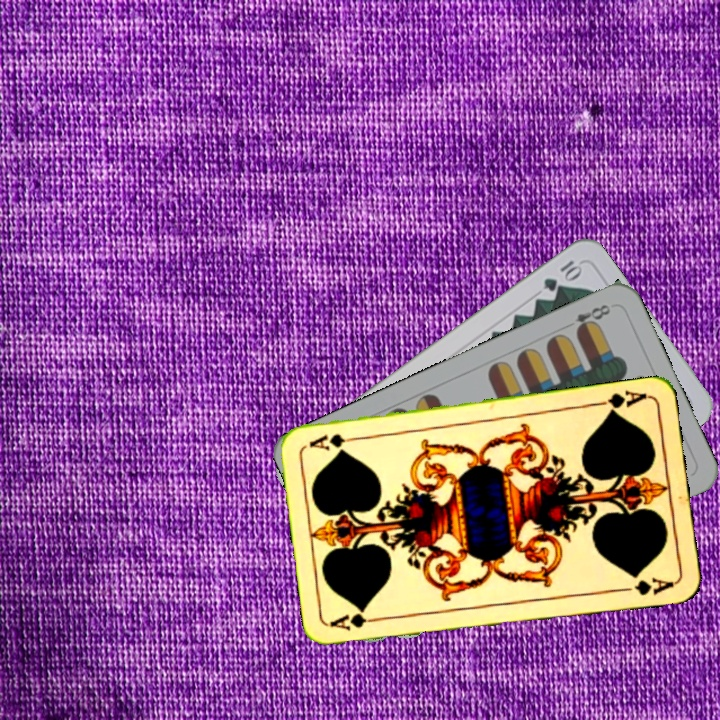E8: (560, 300, 613, 336)
G10: (539, 256, 585, 294)
GA: (591, 387, 650, 417), (327, 610, 387, 633)
